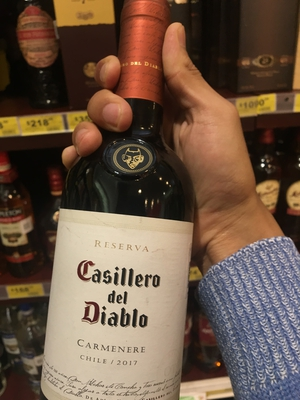casillero del diablo carmenere: (38, 17, 197, 400)
